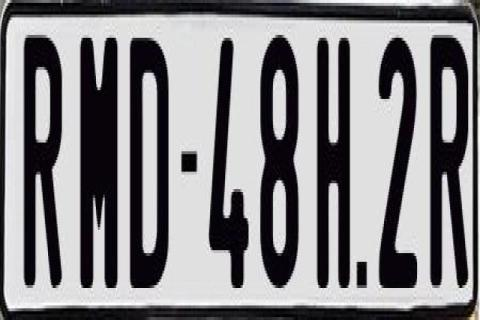0: (208, 29, 255, 279), (376, 38, 420, 294), (257, 29, 298, 299)
D: (130, 32, 168, 291)
H: (315, 32, 349, 294)
M: (80, 32, 120, 300)
R: (24, 35, 68, 305), (428, 27, 462, 286)
